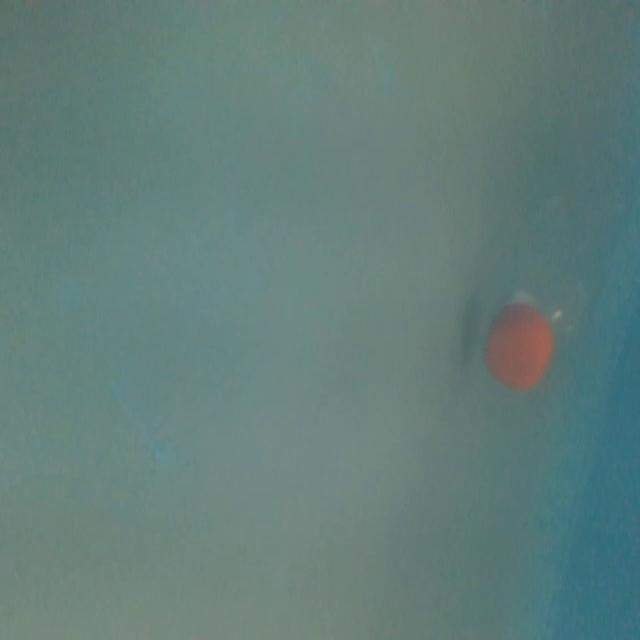plastic bottle: (467, 71, 640, 412)
